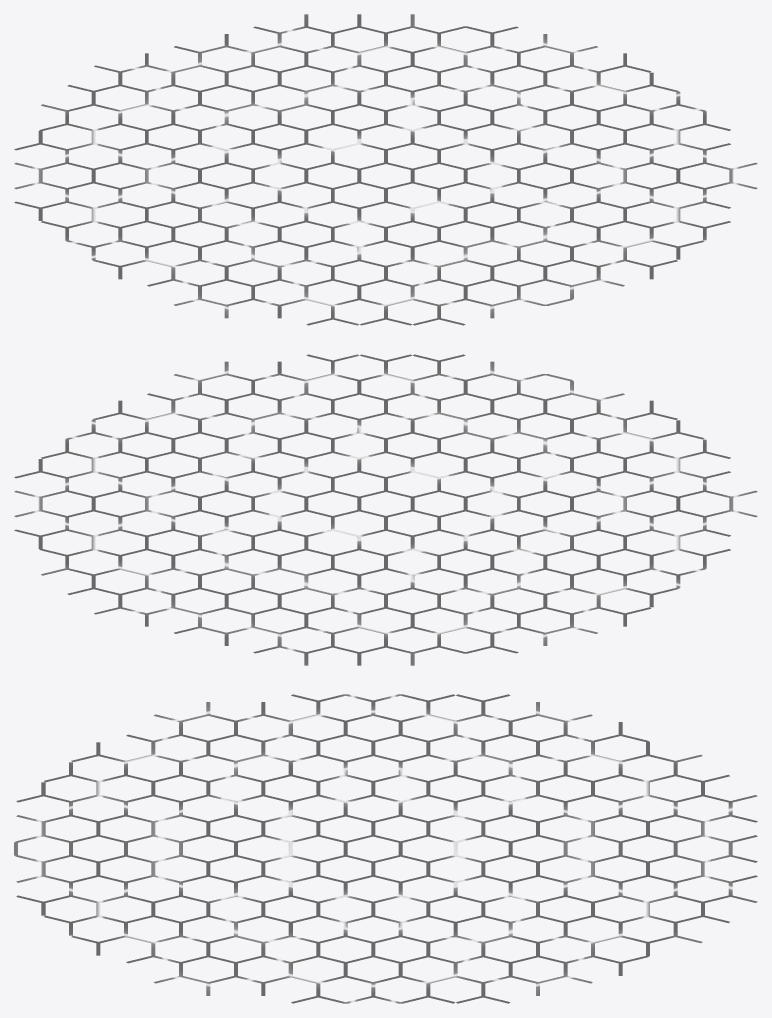
File: E_spider_Door_03.FBX
The picture shows the model from 3 angles, top to bottom: view 1: azimuth 30°, elevation 25°; view 2: azimuth 150°, elevation 25°; view 3: azimuth 270°, elevation 25°; orthographic projection. The views are drawn at different scales.
Parts seen in each view (by area): view 1: Cone001; view 2: Cone001; view 3: Cone001.
Part boxes in pixels (<box>): Cone001: <box>14,14,757,325</box>; Cone001: <box>14,354,757,665</box>; Cone001: <box>14,694,757,1003</box>.
Bounding box in the file's own units: 110 × 6.84e-15 × 112.
Materials: 1 (1 with a texture image).
